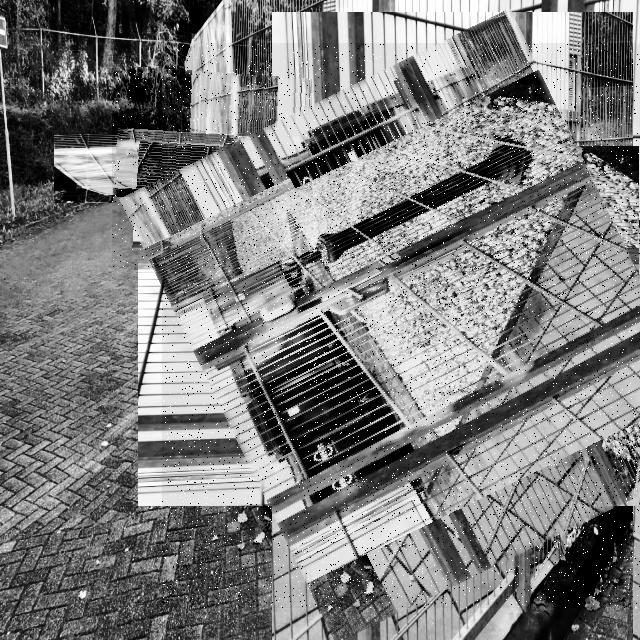fences: (162, 43, 640, 608), (112, 69, 310, 267)
